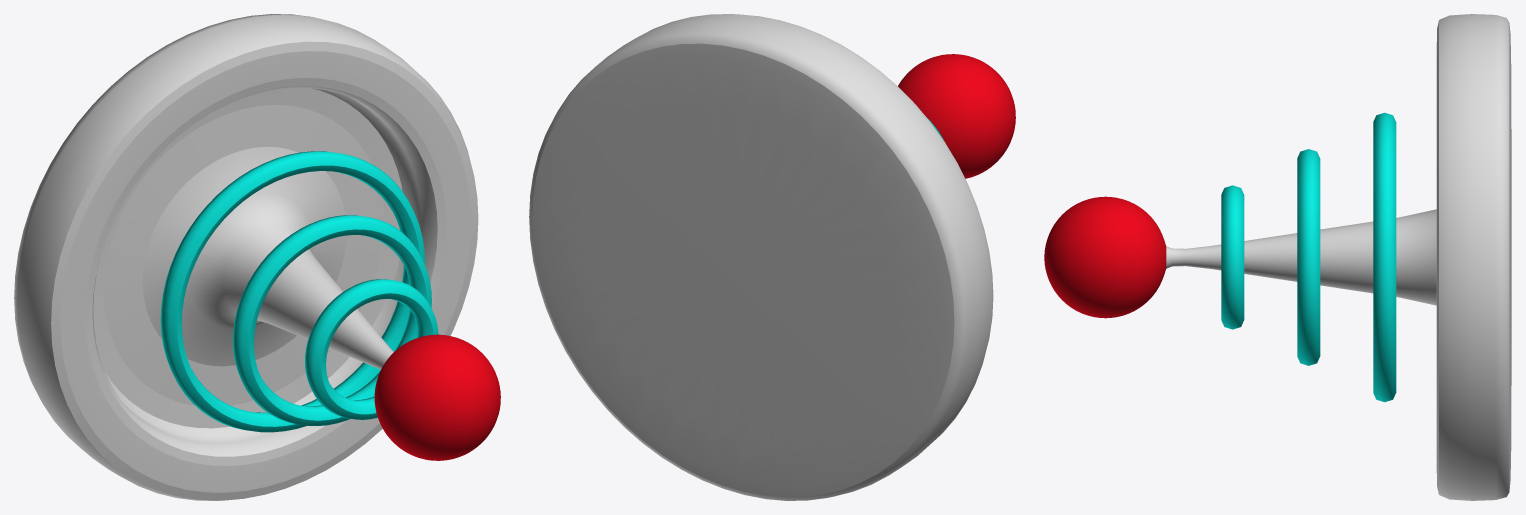
Rendered from Laser.fbx.
The picture shows the model from 3 angles, left to right: view 1: azimuth 30°, elevation 25°; view 2: azimuth 150°, elevation 25°; view 3: azimuth 270°, elevation 25°; orthographic projection. The views are drawn at different scales.
Parts seen in each view (by area): view 1: Cylinder, Cylinder.002, Cylinder.001; view 2: Cylinder, Cylinder.001; view 3: Cylinder, Cylinder.002, Cylinder.001.
Part boxes in pixels (bbox=[...]): Cylinder: bbox=[14, 14, 478, 500]; Cylinder.002: bbox=[160, 151, 438, 432]; Cylinder.001: bbox=[374, 334, 500, 460]; Cylinder: bbox=[529, 14, 993, 500]; Cylinder.001: bbox=[898, 54, 1015, 178]; Cylinder: bbox=[1166, 14, 1511, 500]; Cylinder.002: bbox=[1221, 112, 1396, 402]; Cylinder.001: bbox=[1044, 196, 1166, 318].
Bounding box in the file's own units: 198 × 198 × 190.
